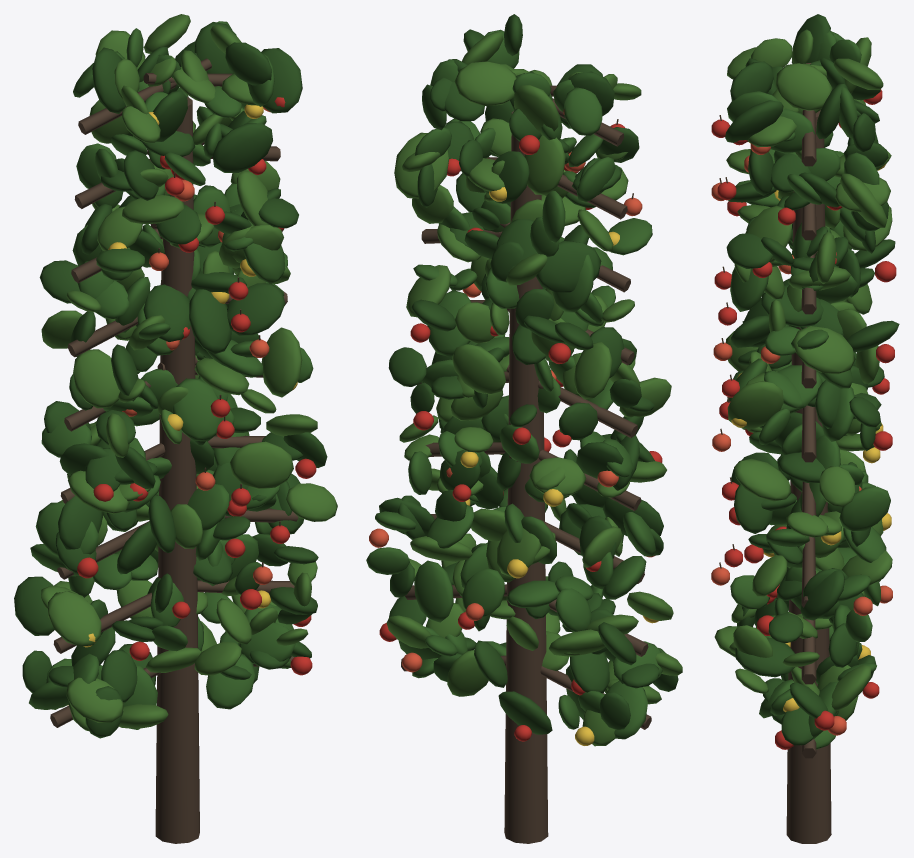
Rendered from appleTree.glb.
The picture shows the model from 3 angles, left to right: view 1: azimuth 30°, elevation 25°; view 2: azimuth 150°, elevation 25°; view 3: azimuth 270°, elevation 25°; orthographic projection.
Visible parts, largest first — view 1: leaves0, leaves2, leaves1, trunk, branches, apples0, apples2; view 2: leaves0, leaves2, leaves1, trunk, branches, apples0, apples1, apples2; view 3: leaves0, leaves2, leaves1, trunk, branches, apples0, apples1, apples2.
Boxes of the visible parts, x1,y1,x2,y2 form: leaves0: (14,22,327,738); leaves2: (41,14,337,730); leaves1: (29,21,313,729); trunk: (155,96,199,843); branches: (50,58,298,727); apples0: (77,97,316,675); apples2: (67,104,297,705); leaves0: (379,14,678,734); leaves2: (386,31,682,746); leaves1: (366,29,662,739); trunk: (504,111,548,843); branches: (401,85,651,729); apples0: (379,109,662,741); apples1: (369,152,618,672); apples2: (460,187,659,745); leaves0: (725,14,899,745); leaves2: (714,29,892,720); leaves1: (727,31,890,749); trunk: (786,110,831,843); branches: (801,63,816,758); apples0: (727,89,896,749); apples1: (744,143,892,735); apples2: (731,142,891,712).
Bounding box in the file's own units: 1.26 × 3.5 × 0.7548.
